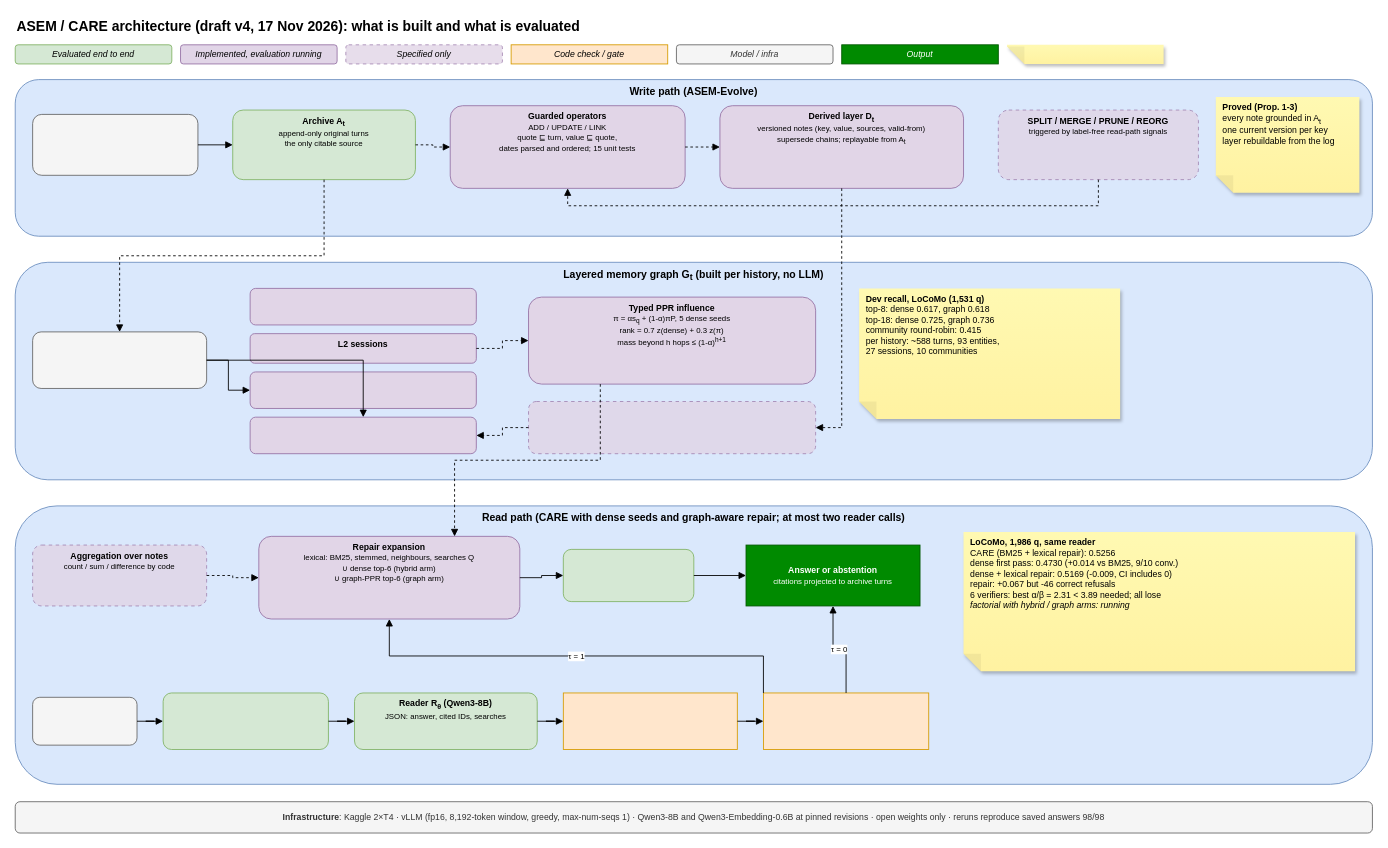
Some shapes in this 1388 by 848 pixel diagram are drawn without their labels. The shapes that lost their labels are listed below. From the top down, each one's centre as x and y in pixels, then its label:
At (x=1085, y=55): "Evidence".
At (x=115, y=144): "Session stream turns s=(id, session, date, speaker, text)".
At (x=362, y=306): "L3 communities Louvain, seeded".
At (x=119, y=359): "Qwen3-Embedding-0.6B GPU, fp16, last-token pooling".
At (x=362, y=389): "L1 entities capitalized, 2-5% of turns".
At (x=362, y=435): "L0 turns next edges, semantic 5-NN".
At (x=672, y=427): "Notes of D t as graph nodes cite edges to their source turns".
At (x=628, y=575): "Reader R θ once more".
At (x=84, y=720): "Question q".
At (x=245, y=721): "First bundle BM25 or dense top-8, ≤ 10,000 chars".
At (x=649, y=721): "Code checks citation in bundle; speaker / event binding".
At (x=846, y=721): "Gate τ(q) invalid, or abstained with searches or risk cue".
